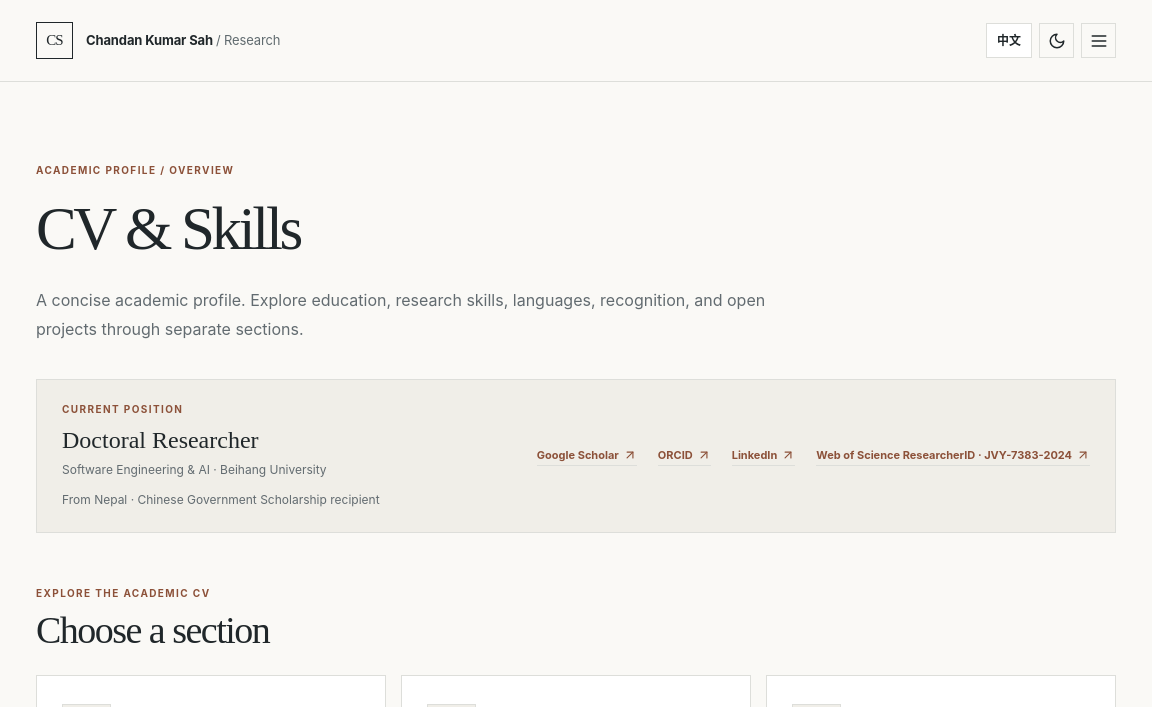
Scenario: professional Simplified Chinese localization › provides a Simplified Chinese Recognition tile inside CV without duplicating the archive
This screenshot has width=1152, height=707.
Click the button with aria-label "Switch website to Simplified Chinese": (1009, 40) [986,23,1032,58]
(page scrolled)
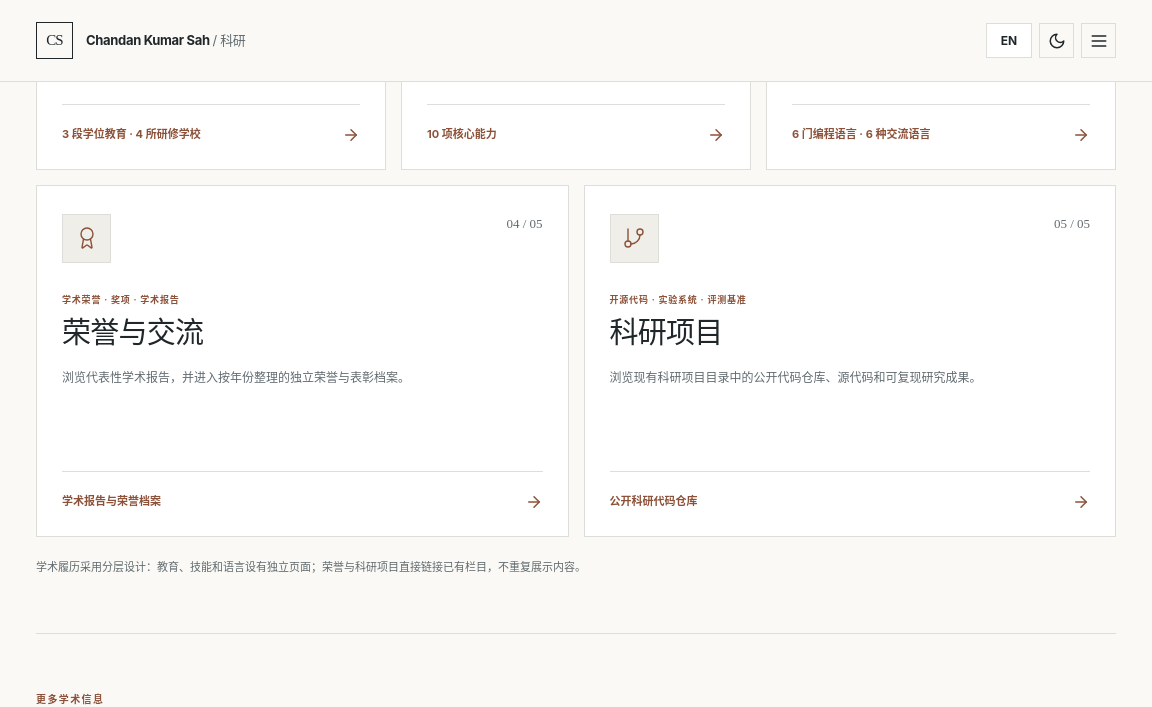
Expected: the link to "/recognition" shows "荣誉与交流", [36,185,568,537]
Expected: the link to "/recognition" shows "学术报告与荣誉档案", [36,185,568,537]
Expected: the link with class "cv-layer-card" shows "科研项目", [584,185,1116,537]
